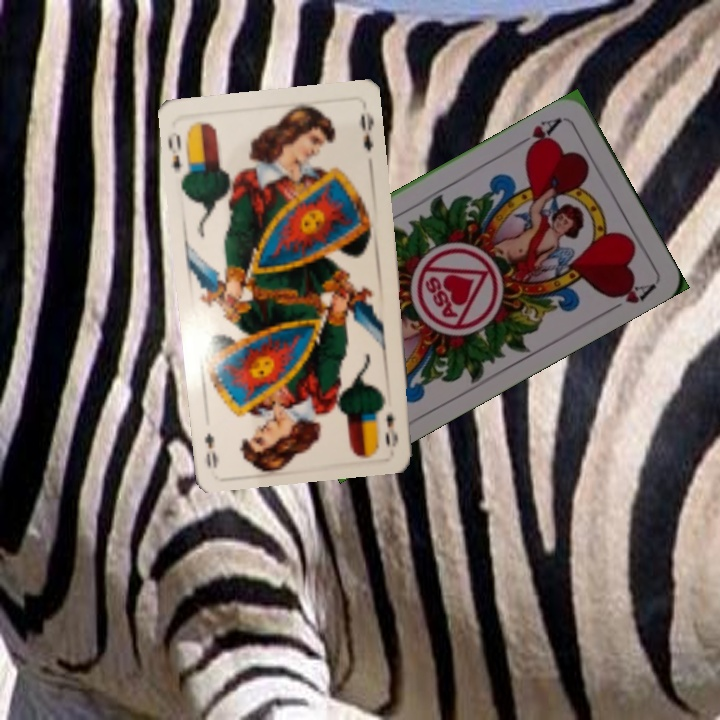EO: (168, 130, 195, 180), (382, 408, 401, 450)
HA: (511, 114, 565, 156)
